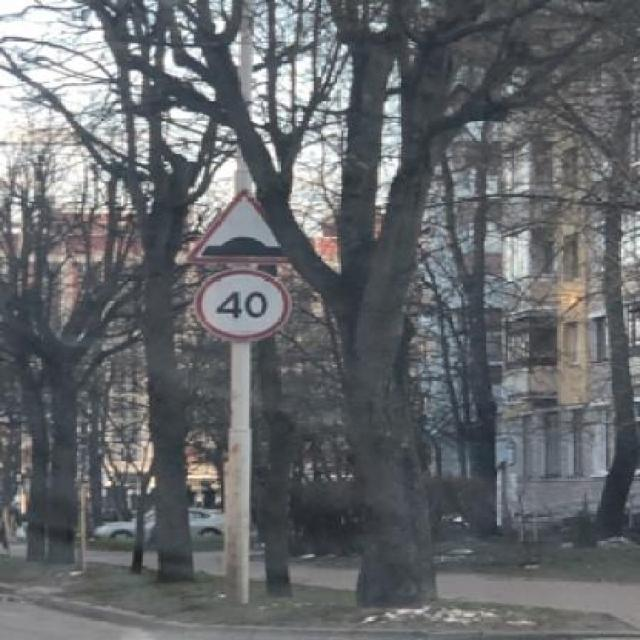forb_speed_over_40: (194, 266, 288, 342)
